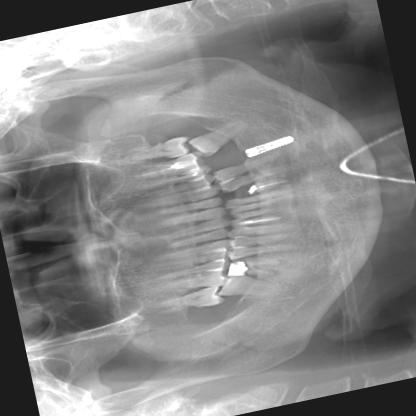ITI: (242, 132, 296, 158)
